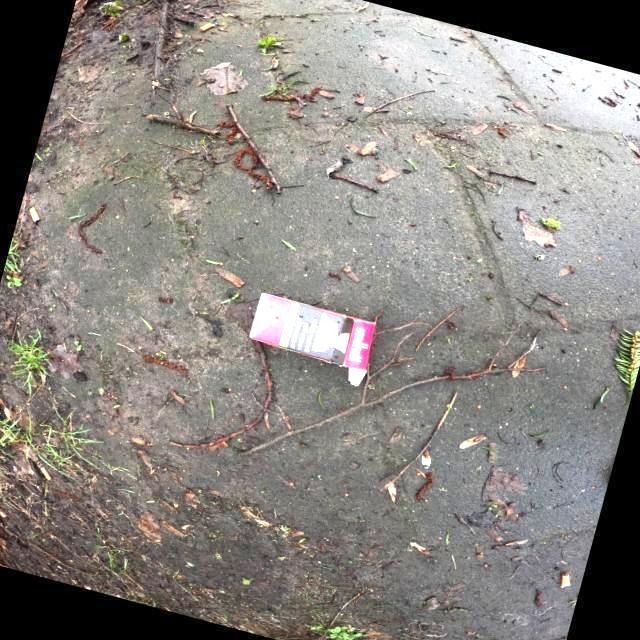Paper: (246, 290, 380, 388)
